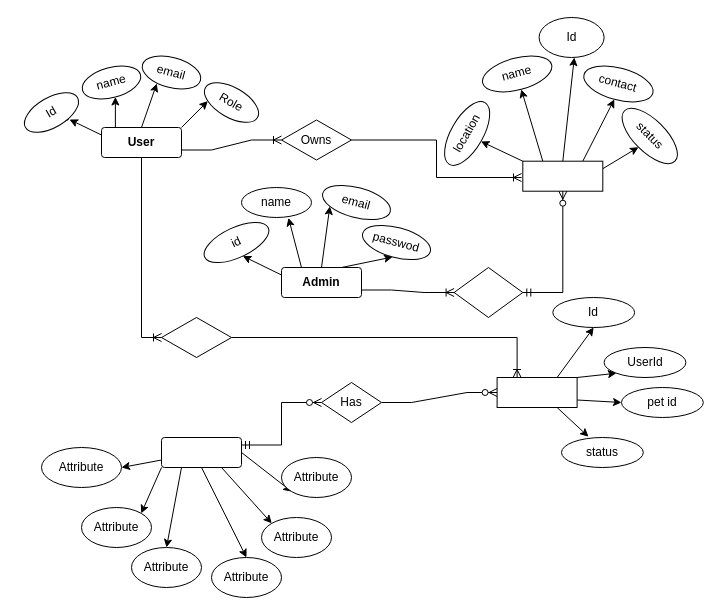
The diagram is 721 pixels wide and 615 high, and some of its shapes have lost their labels. The box of each missing label's shape, as (x1, y1, x2, y2) in pixels:
Adoption Request: (496, 376, 577, 408)
Approves: (453, 266, 523, 318)
Pet: (160, 436, 242, 468)
Shelter: (522, 160, 603, 191)
Submits: (160, 316, 232, 358)
